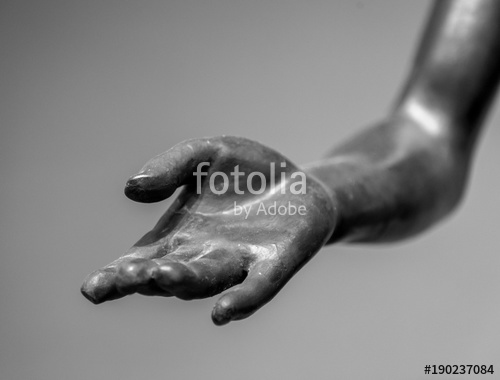finger: (155, 250, 243, 298), (207, 272, 283, 326)
